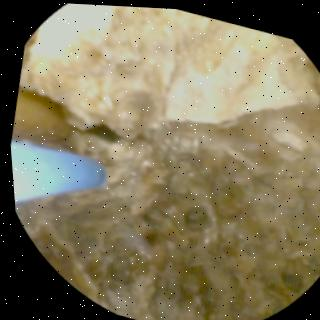fiber: (8, 141, 100, 199)
stone: (10, 3, 320, 320)
